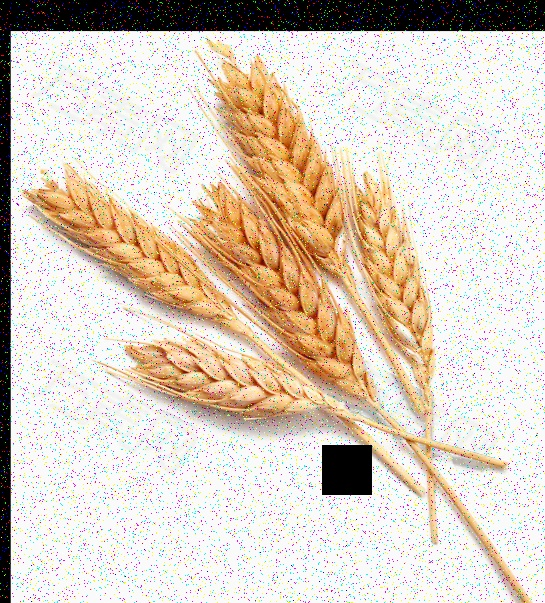wheat: (16, 156, 263, 358), (190, 178, 389, 412), (208, 47, 355, 281), (113, 332, 379, 420), (351, 184, 442, 420)
